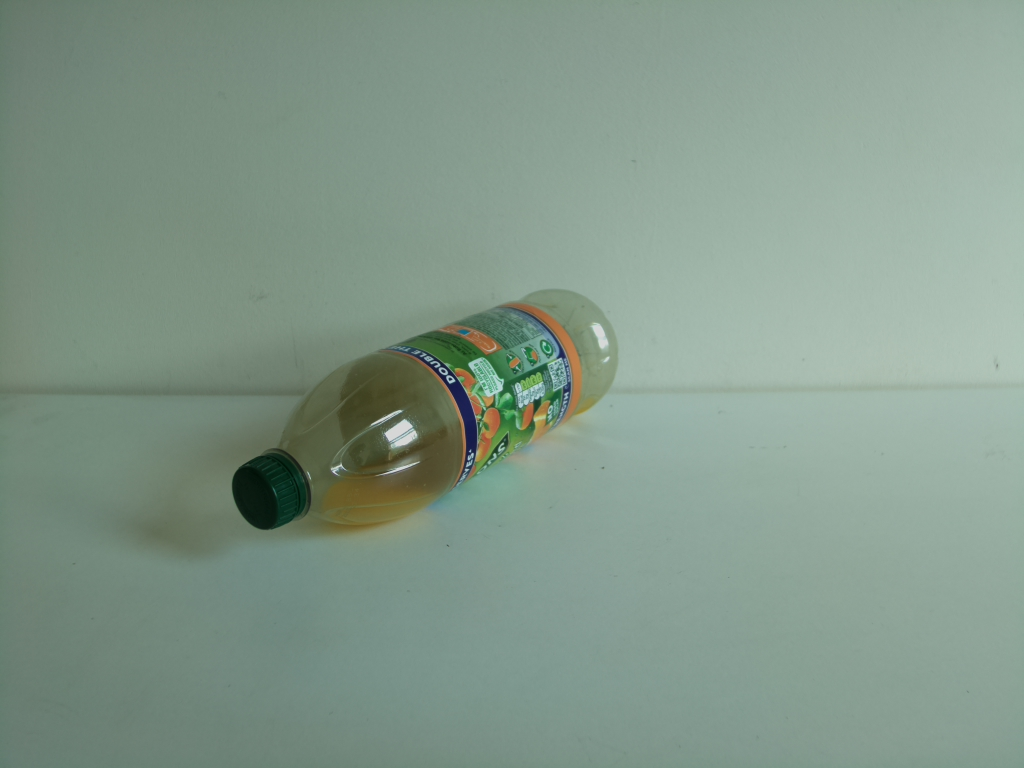juice: (229, 287, 617, 535)
